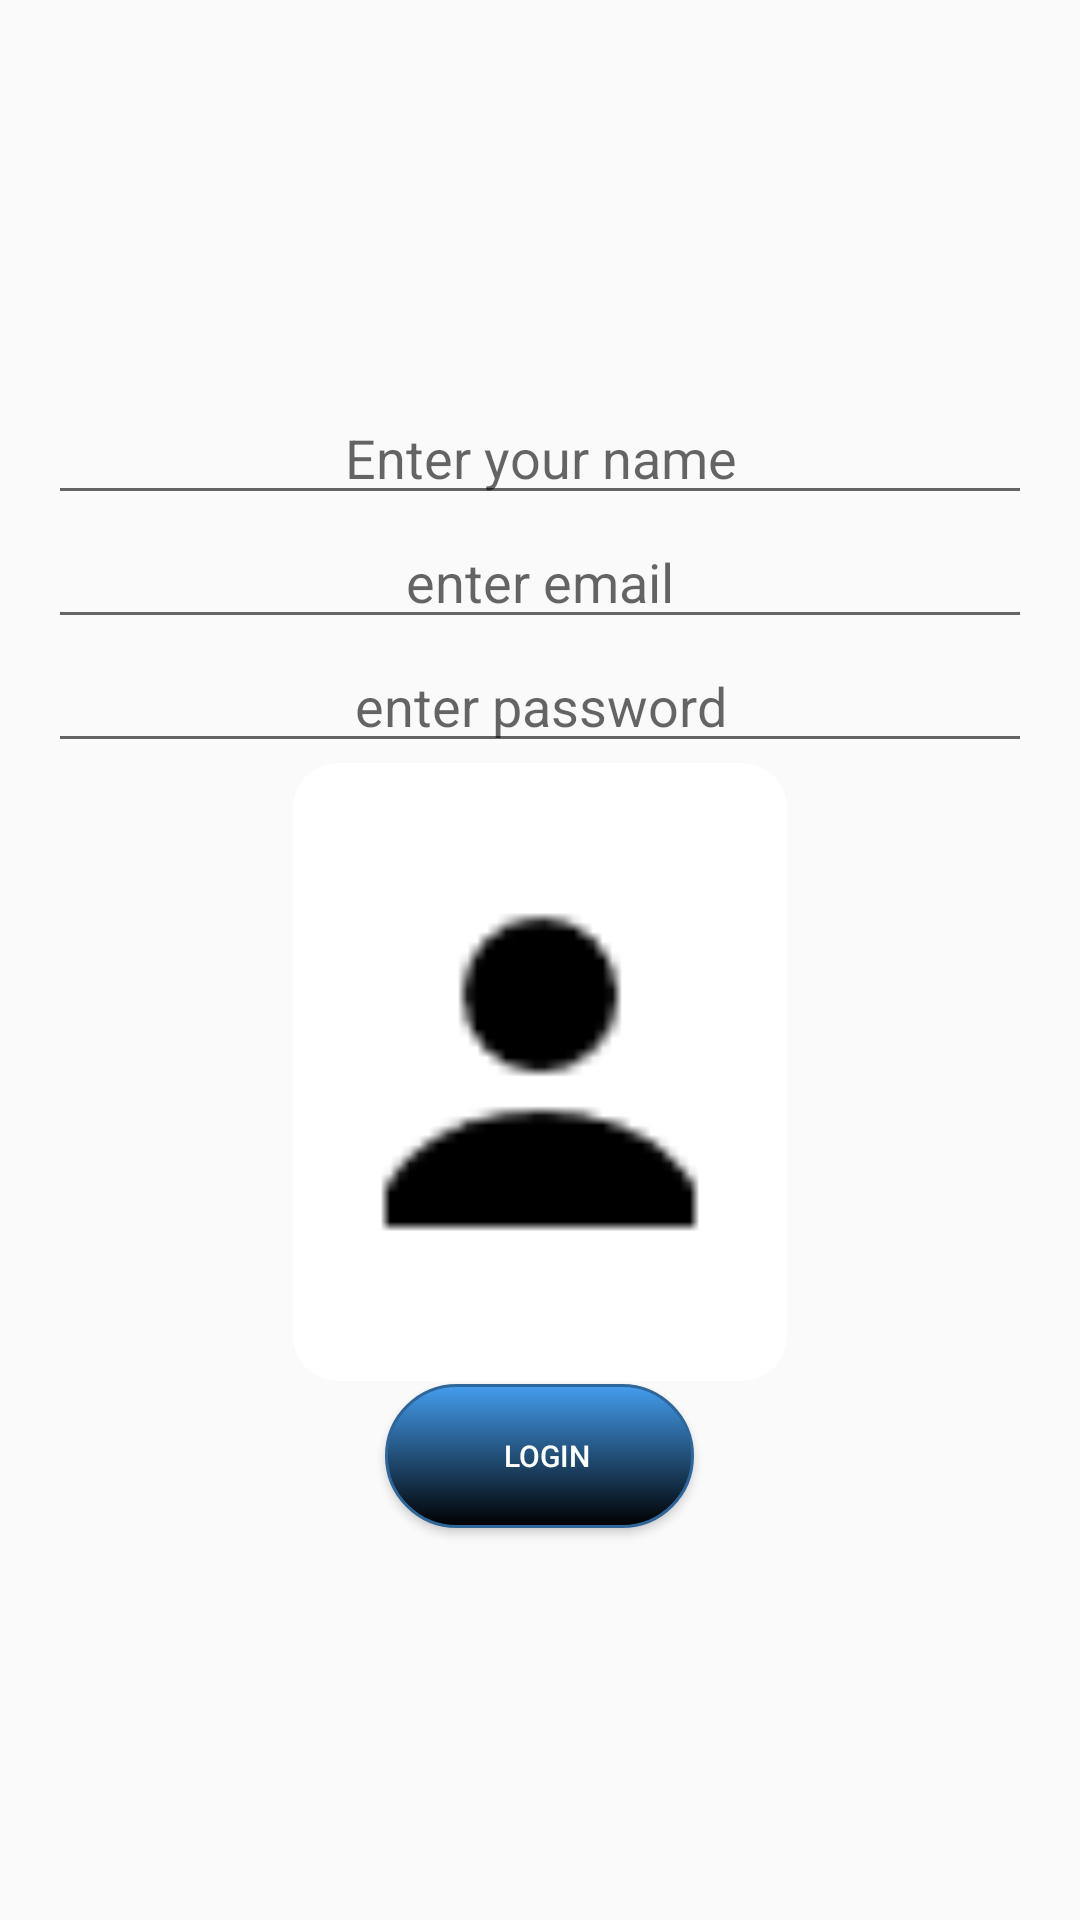

Screen size 1080 × 1920. Icon name, then its box in pixels as box=[x1, y1, x2, y2]:
user: box=[381, 914, 699, 1231]
